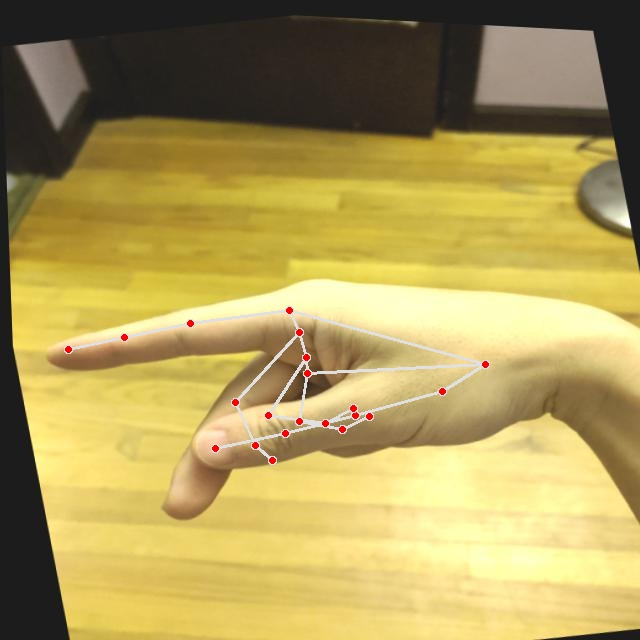P: (22, 222, 580, 563)
